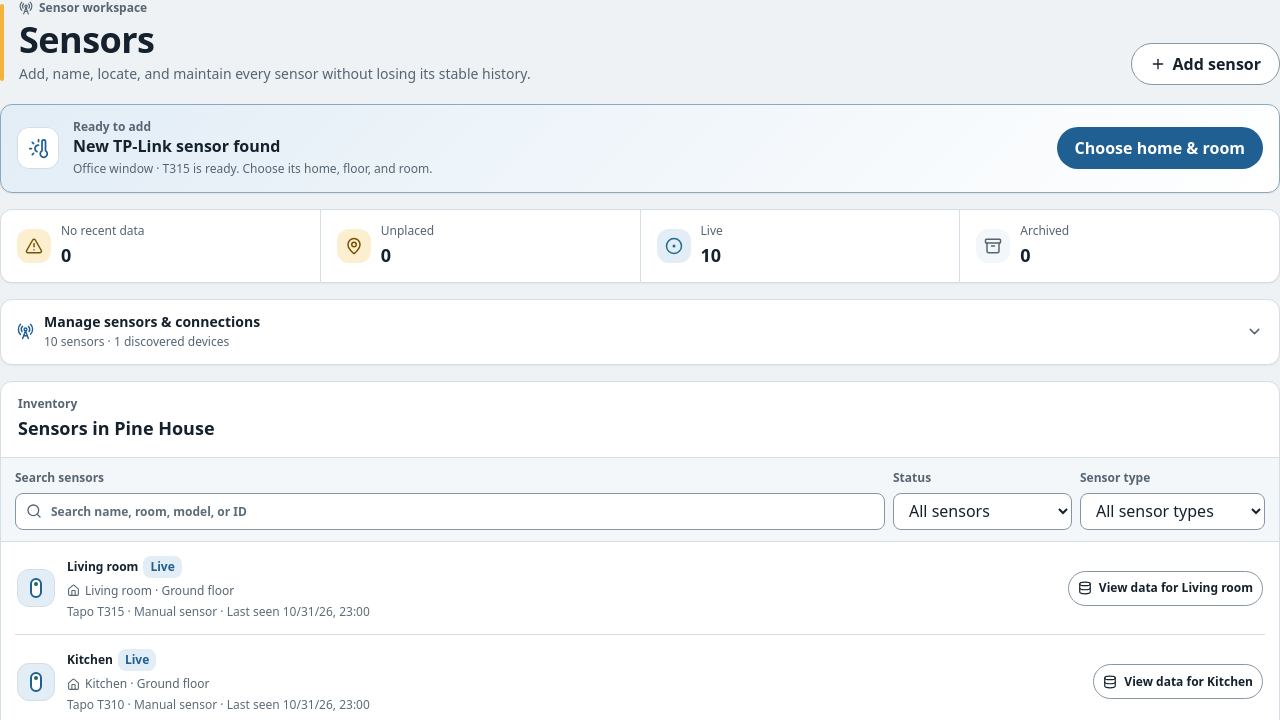
Test: sensor onboarding and management › keeps history and prediction visualization on each individual sensor detail view
The image size is (1280, 720).
Click the button "View data for Living room": (1165, 588) [1068, 570, 1263, 606]
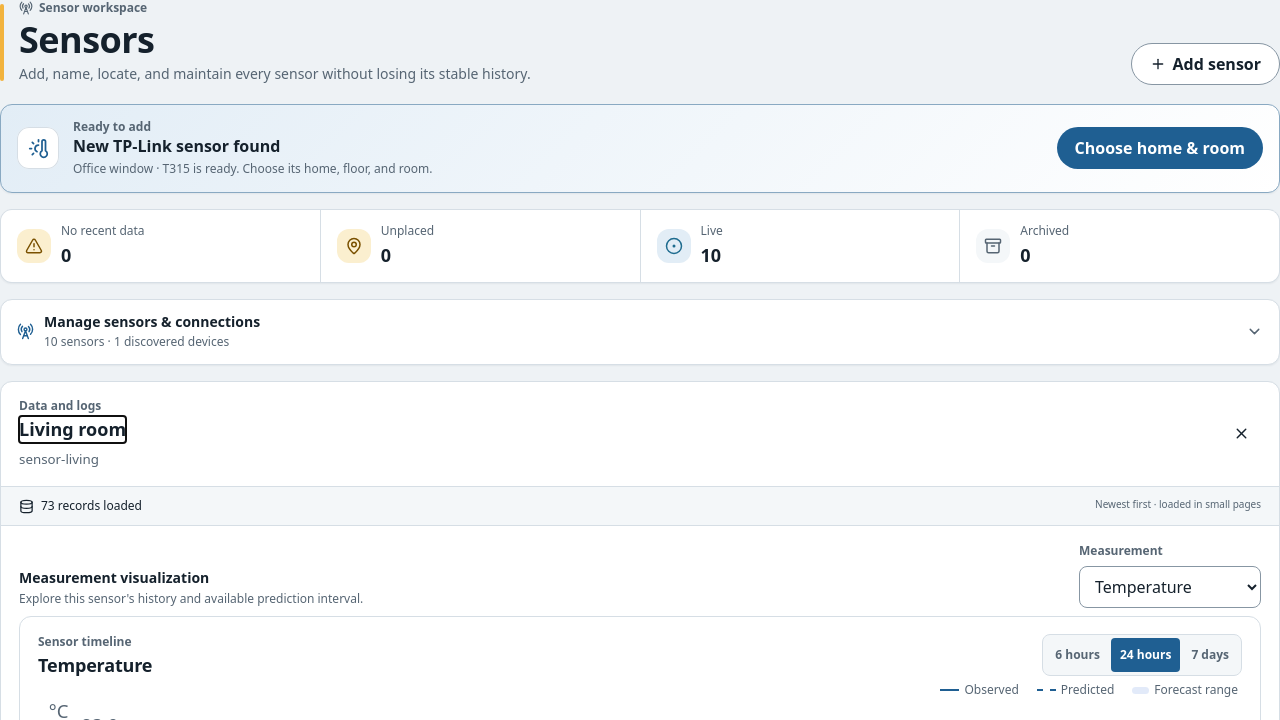
Result: the text "Predicted" is shown at [1037, 681, 1114, 699]
Select "Humidity" in the dropdown labelled "Measurement": (1170, 587) [1079, 566, 1261, 608]
(page scrolled)
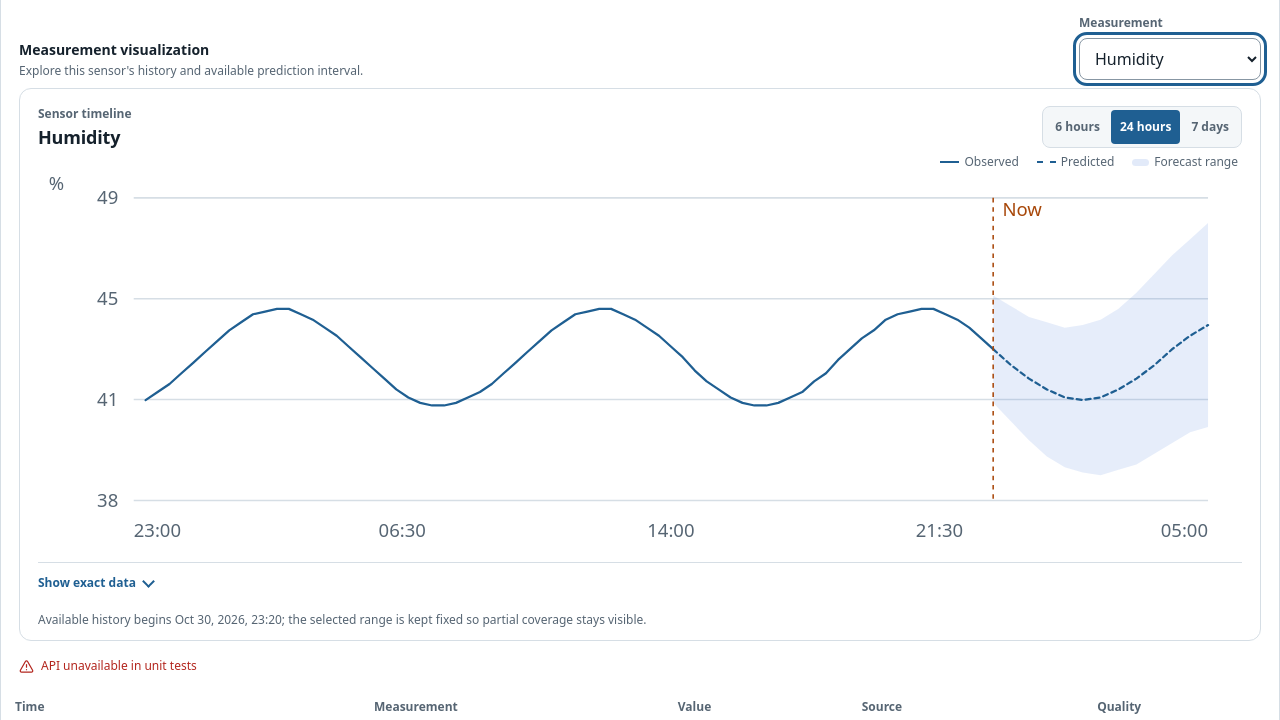
Result: the icon named "Humidity history and forecast for Living room" is shown at [38, 167, 1242, 553]
